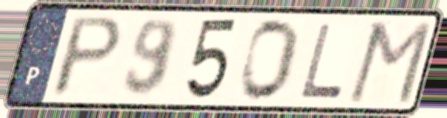5: (184, 16, 240, 101)
9: (120, 16, 178, 100)
L: (298, 21, 347, 100)
M: (344, 19, 436, 107)
O: (237, 16, 304, 104)
P: (47, 13, 127, 100)
